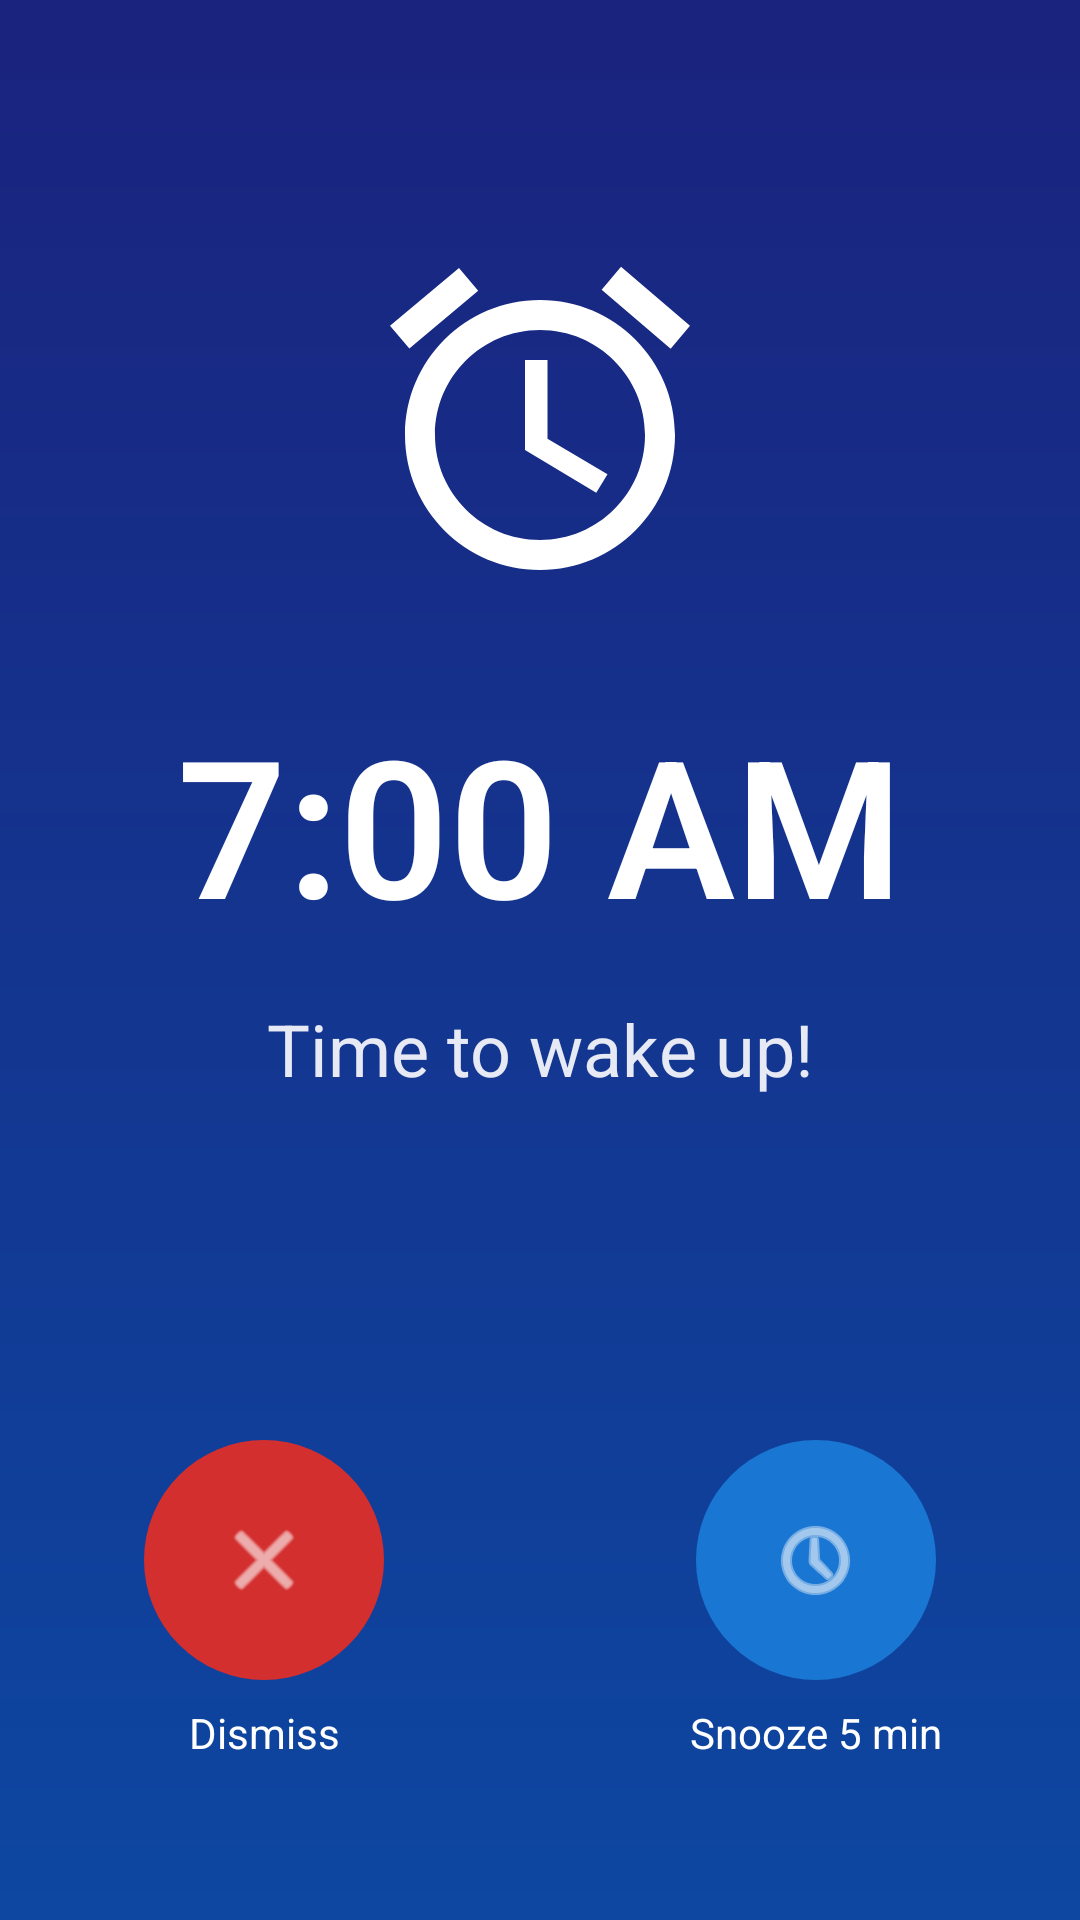

Icon bounding boxes for this 1080px x 1920px phone screenshot, format BBox(x1, y1, x2, y2):
Alarm: BBox(390, 267, 690, 570)
